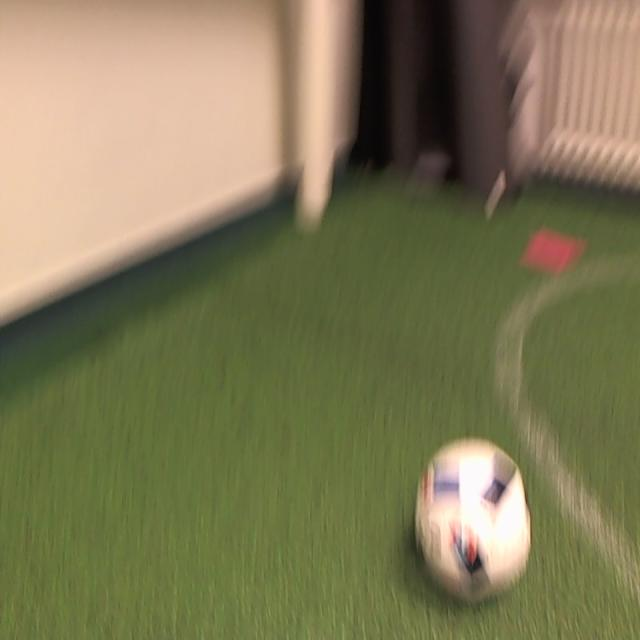ball: (414, 441, 532, 603)
goalpost: (298, 4, 331, 220)
